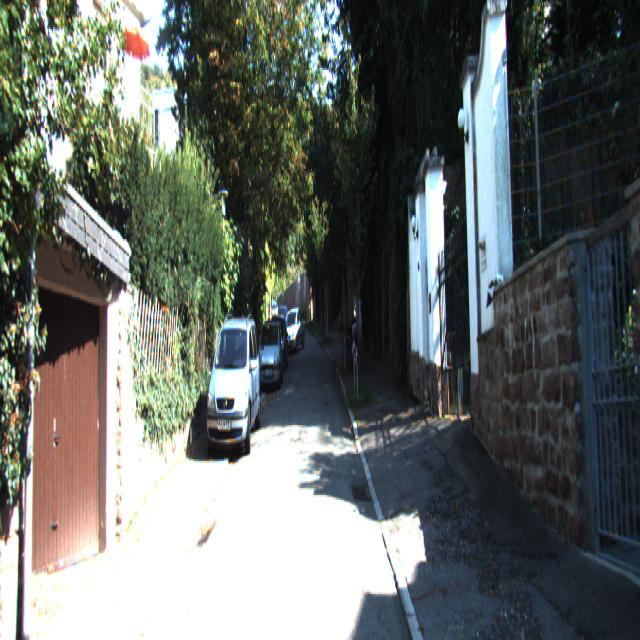Car: (205, 312, 261, 464), (258, 318, 284, 394), (281, 306, 305, 356)
